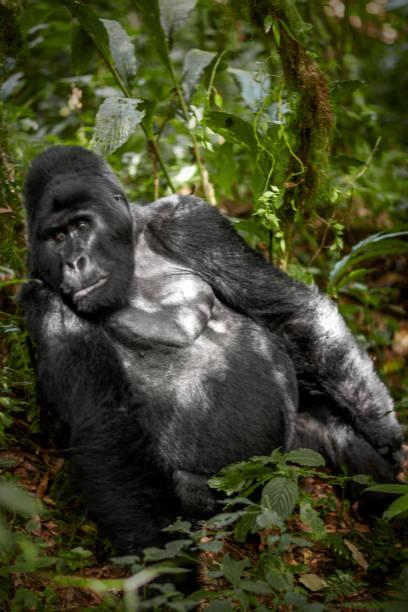goriile_montagne: (0, 144, 386, 533)
